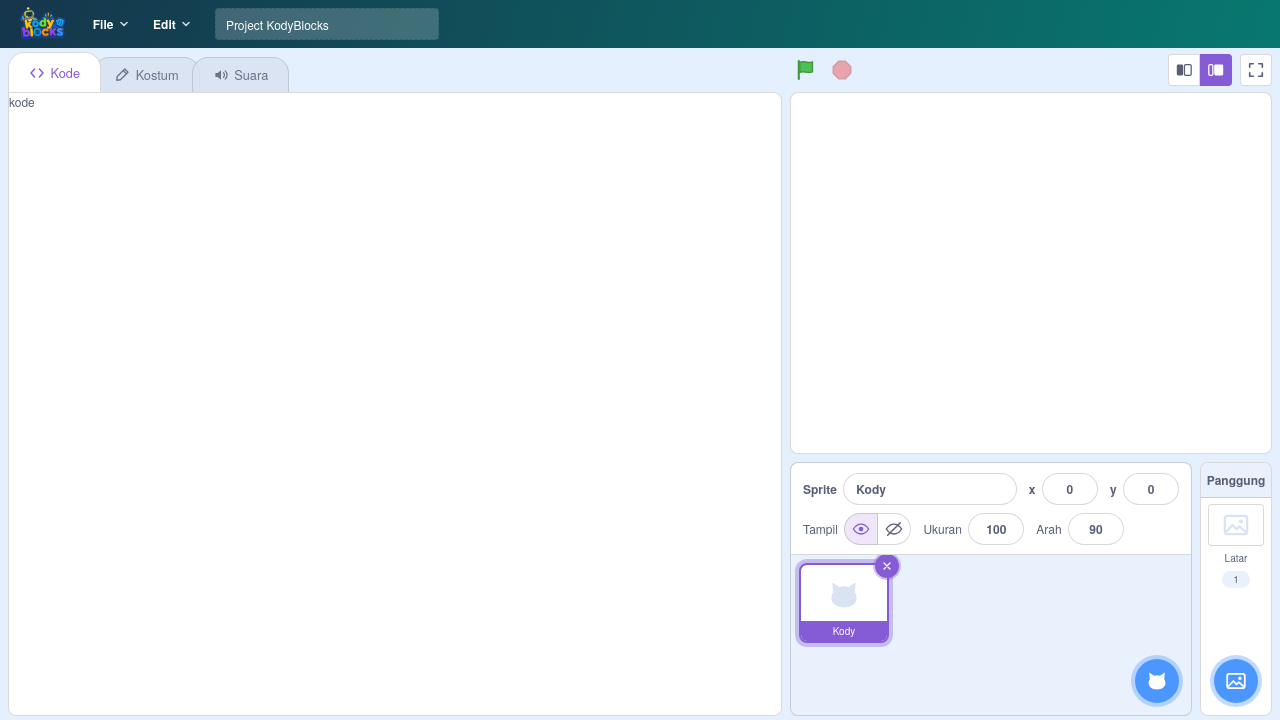
Test case: KodyShell › bendera hijau, stop, dan turbo dari menu Edit
Click the button named "Jalankan" at (806, 70), box [790,54,822,86]
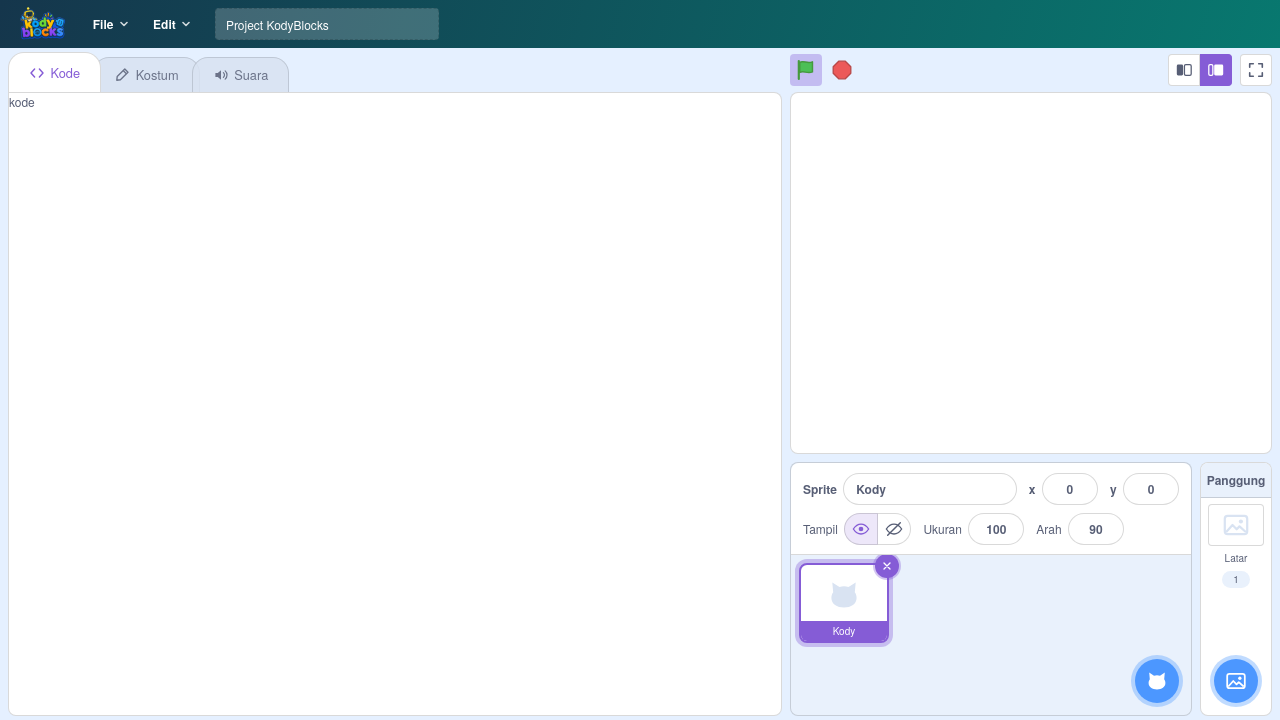
Expected: the button with class "kb-flag" has class "kb-flag--active", [790,54,822,86]
Click the button named "Berhenti" at (842, 70), box [826,54,858,86]
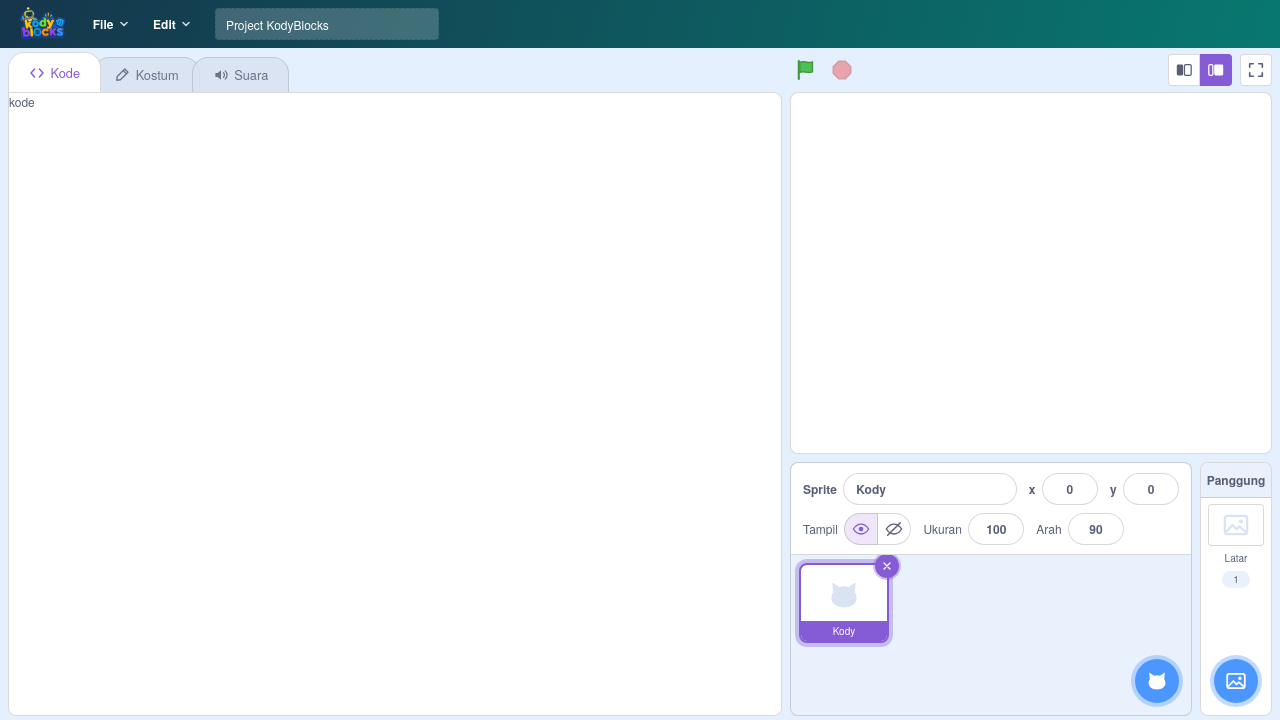
Click the button with class "kb-menu-bar__item" showing "Edit" at (172, 24), box [141,0,203,48]
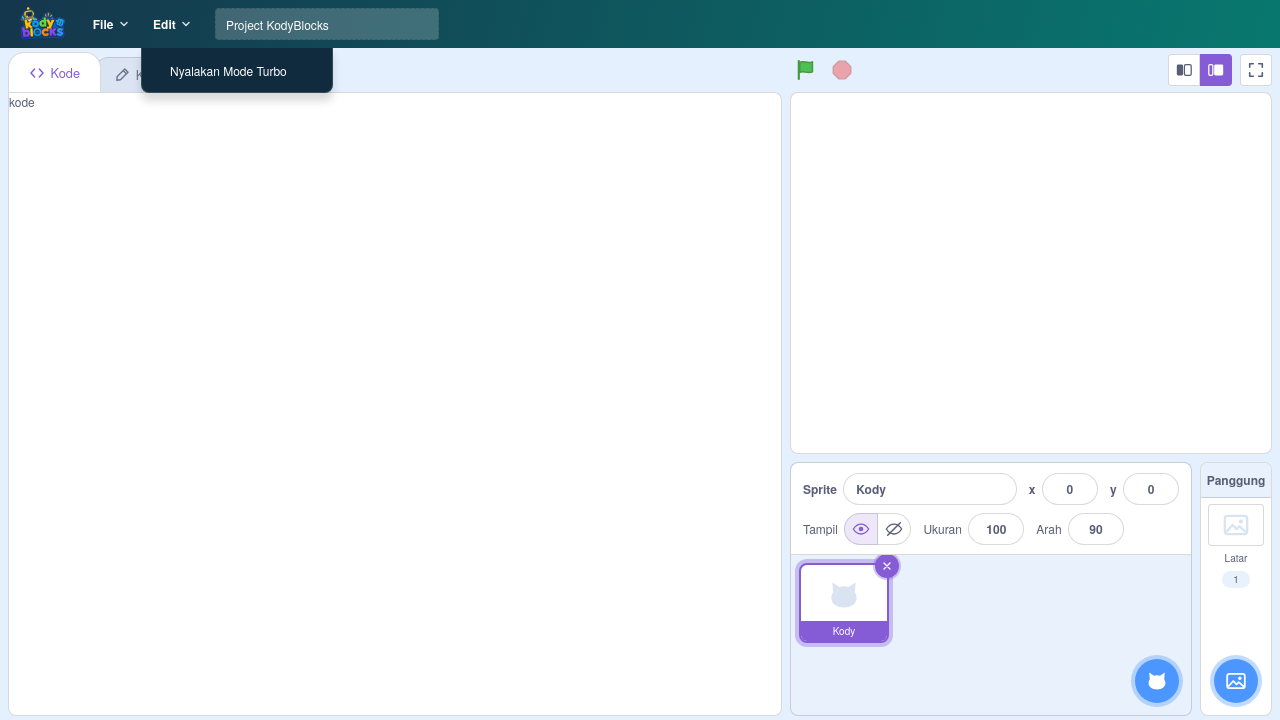
Click the menu item "Nyalakan Mode Turbo" at (237, 70), box [142,52,332,88]
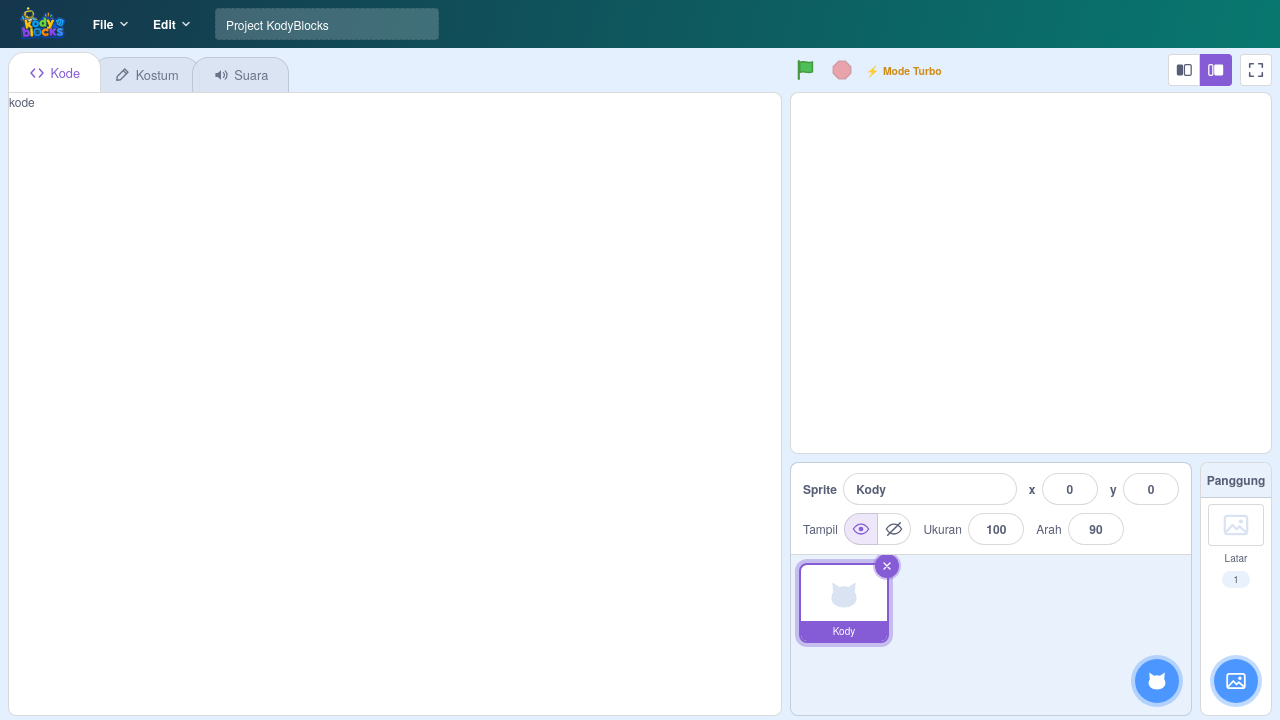
Expected: the message with class "kb-turbo-indicator" shows "Mode Turbo", [883,62,942,78]
